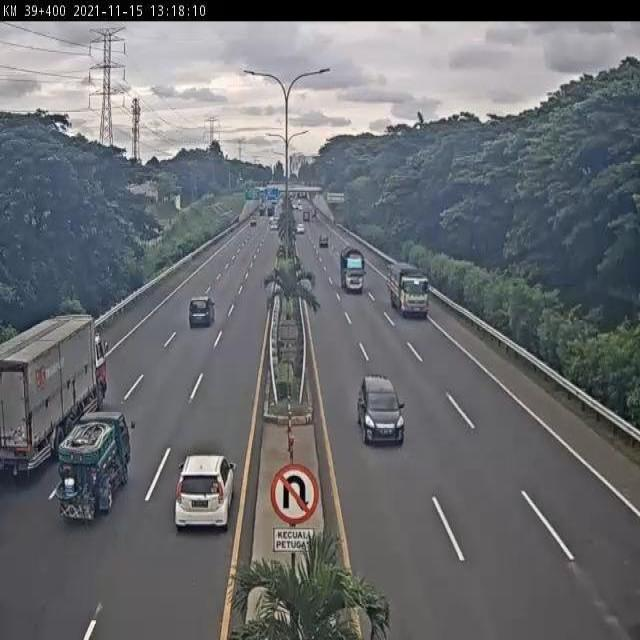Car: (351, 370, 414, 454), (174, 452, 237, 530), (188, 296, 216, 327), (275, 198, 284, 221), (284, 192, 295, 205), (319, 235, 329, 247), (296, 223, 305, 234), (267, 204, 275, 216), (270, 221, 278, 232), (302, 211, 310, 221), (258, 205, 264, 216), (293, 202, 301, 210), (297, 192, 306, 199), (250, 217, 256, 226), (312, 209, 317, 218)
Truck: (0, 314, 104, 478), (59, 409, 127, 532), (378, 254, 437, 324), (340, 247, 366, 293)
